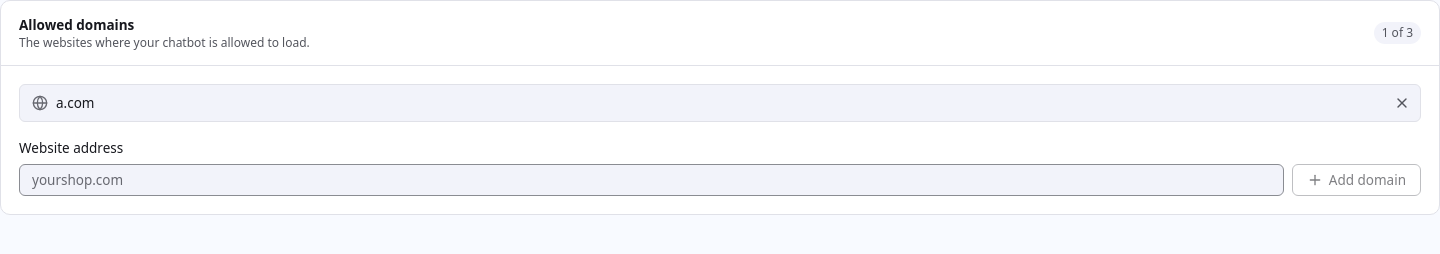
Test: saves the cleaned host and shows the server's error when saving fails
Type "https://B.com/x" into the field labelled "Website address" at [651, 180], box left=19, top=164, right=1284, bottom=196
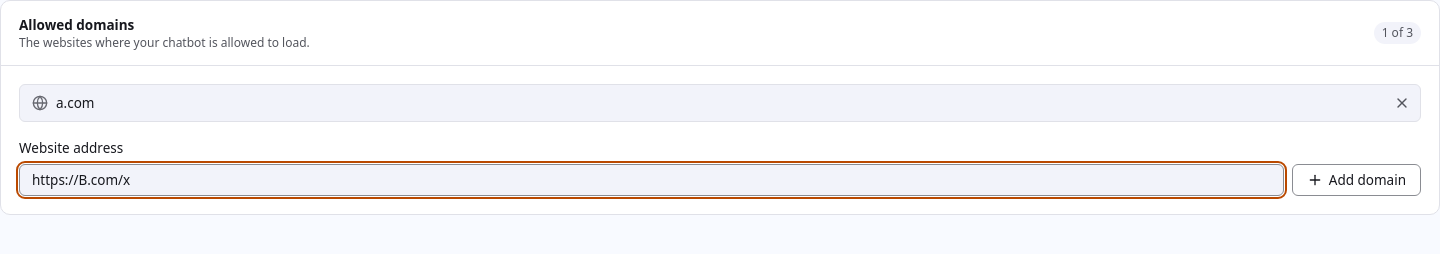
Click the button "Add domain" at [1356, 180], box left=1292, top=164, right=1421, bottom=196
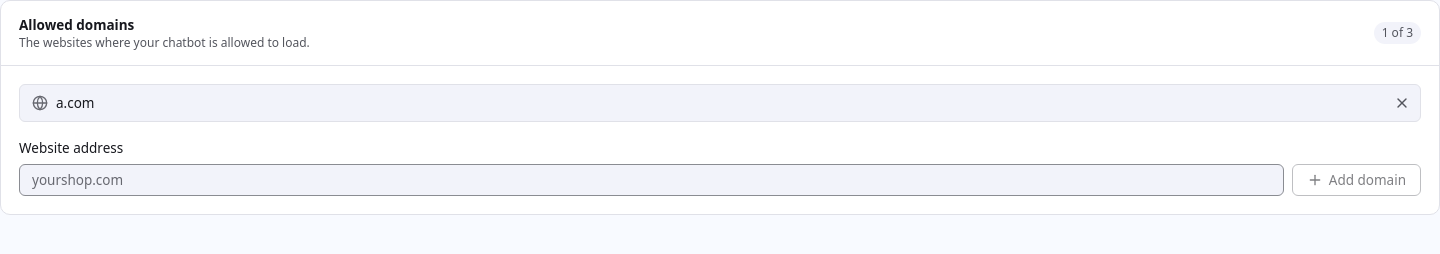
Type "c.com" into the field labelled "Website address" at [651, 180], box left=19, top=164, right=1284, bottom=196
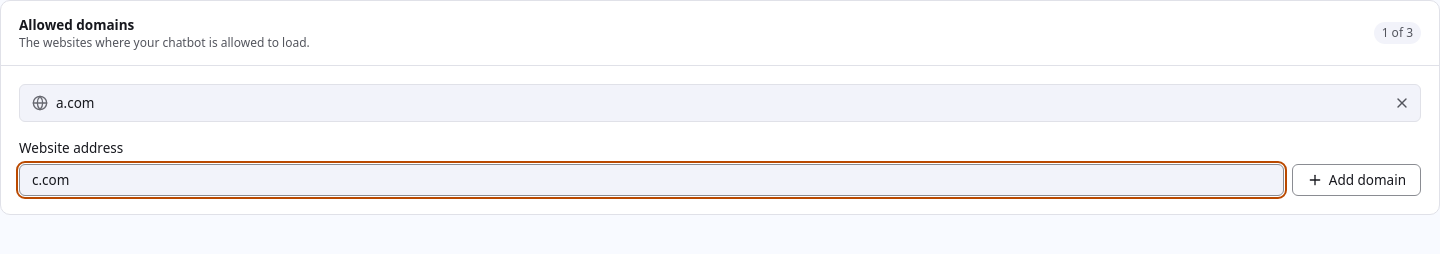
Click the button "Add domain" at [1356, 180], box left=1292, top=164, right=1421, bottom=196
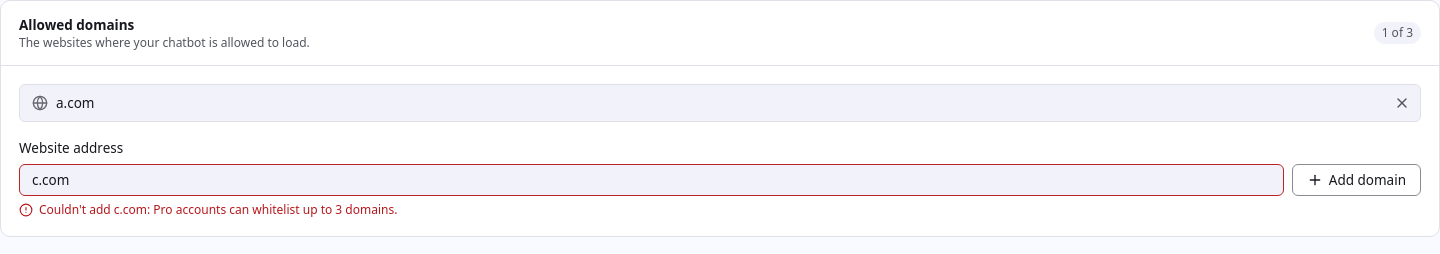
Expected: the text "Couldn't add c.com: Pro accounts" is shown, left=39, top=201, right=397, bottom=218
